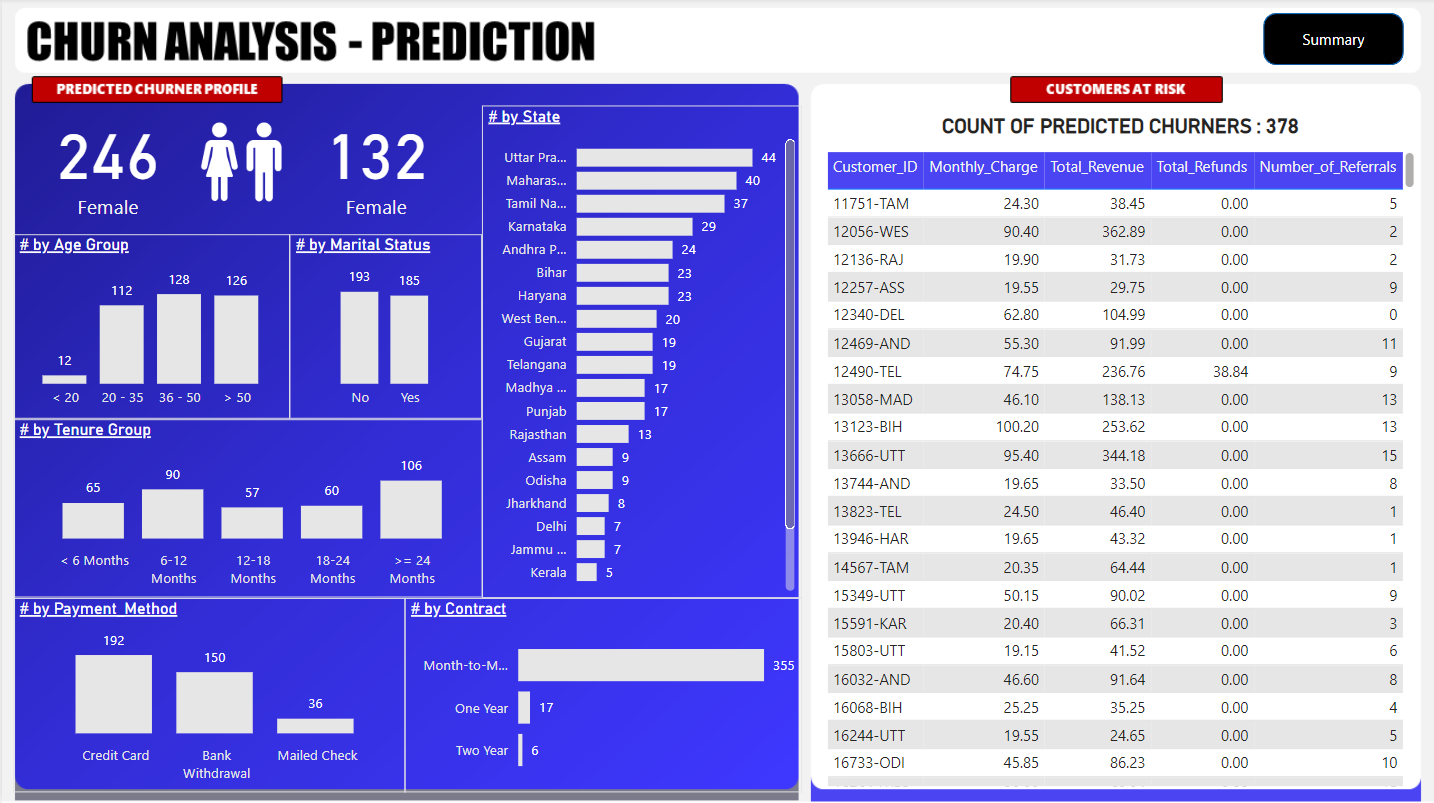

This screenshot's page, from the dashboard's own definition file:
{"tool":"powerbi","page":{"name":"Churn Prediction","canvas":[1280,720],"ordinal":2},"visuals":[{"type":"tableEx","fields":{"Values":["Predictions.Customer_ID","Predictions.Monthly_Charge","Predictions.Total_Revenue","Predictions.Total_Refunds","Predictions.Number_of_Referrals"]},"box":[731.6,132.7,535.5,576.2],"z":0},{"type":"card","fields":{"Values":["tbl_Measures.Title Predicted Churners"]},"box":[823.6,95.6,350.2,37.1],"z":1},{"type":"card","fields":{"Values":["tbl_Measures.Count Predicted Churner"]},"box":[19.1,88.5,151.8,116],"z":2},{"type":"card","fields":{"Values":["tbl_Measures.Count Predicted Churner"]},"box":[255.8,88.5,157.8,116],"z":3},{"type":"clusteredColumnChart","fields":{"Category":["mapping_AgeGrp.Age Group"],"Y":["CountNonNull(Predictions.Customer_ID)"]},"box":[9.6,211.6,247.4,165],"z":4},{"type":"clusteredColumnChart","fields":{"Category":["Predictions.Married"],"Y":["CountNonNull(Predictions.Customer_ID)"]},"box":[257,211.6,172.1,165],"z":5},{"type":"clusteredColumnChart","fields":{"Y":["CountNonNull(Predictions.Customer_ID)"],"Category":["mapping_TenureGrp.Tenure Group"]},"box":[9.6,376.5,419.6,159],"z":6},{"type":"clusteredColumnChart","fields":{"Y":["CountNonNull(Predictions.Customer_ID)"],"Category":["Predictions.Payment_Method"]},"box":[9.6,535.5,350.2,173.3],"z":7},{"type":"clusteredBarChart","fields":{"Category":["Predictions.Contract"],"Y":["CountNonNull(Predictions.Customer_ID)"]},"box":[359.8,535.5,355,173.3],"z":8},{"type":"clusteredBarChart","fields":{"Y":["CountNonNull(Predictions.Customer_ID)"],"Category":["Predictions.State"]},"box":[429.1,95.6,285.7,439.9],"z":9},{"type":"image","box":[163.8,88.5,99.2,116],"z":10},{"type":"shape","box":[1127.2,13.1,125.5,46.6],"z":11}]}

Visuals, with their boxes in screenshot pixels (x1, y1, x2, y2), scaled from the page's 1280x720 canvas onto the 1434x803 screenshot:
tableEx - Predictions.Customer_ID x Predictions.Monthly_Charge: [x1=820, y1=148, x2=1420, y2=791]
card - tbl_Measures.Title Predicted Churners: [x1=923, y1=107, x2=1315, y2=148]
card - tbl_Measures.Count Predicted Churner: [x1=21, y1=99, x2=191, y2=228]
card - tbl_Measures.Count Predicted Churner: [x1=287, y1=99, x2=463, y2=228]
clusteredColumnChart - mapping_AgeGrp.Age Group x CountNonNull(Predictions.Customer_ID): [x1=11, y1=236, x2=288, y2=420]
clusteredColumnChart - Predictions.Married x CountNonNull(Predictions.Customer_ID): [x1=288, y1=236, x2=481, y2=420]
clusteredColumnChart - CountNonNull(Predictions.Customer_ID) x mapping_TenureGrp.Tenure Group: [x1=11, y1=420, x2=481, y2=597]
clusteredColumnChart - CountNonNull(Predictions.Customer_ID) x Predictions.Payment_Method: [x1=11, y1=597, x2=403, y2=791]
clusteredBarChart - Predictions.Contract x CountNonNull(Predictions.Customer_ID): [x1=403, y1=597, x2=801, y2=791]
clusteredBarChart - CountNonNull(Predictions.Customer_ID) x Predictions.State: [x1=481, y1=107, x2=801, y2=597]
image: [x1=184, y1=99, x2=295, y2=228]
shape: [x1=1263, y1=15, x2=1403, y2=67]
